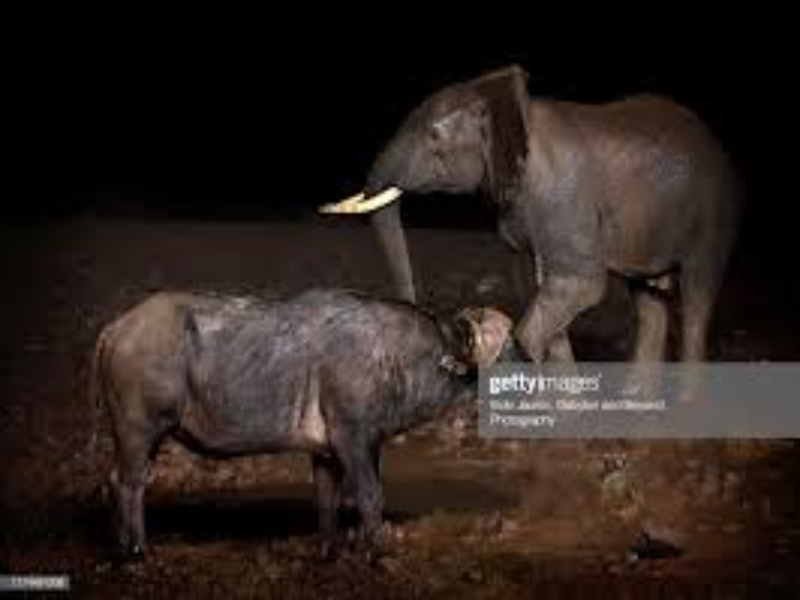elephant: (298, 48, 729, 361)
